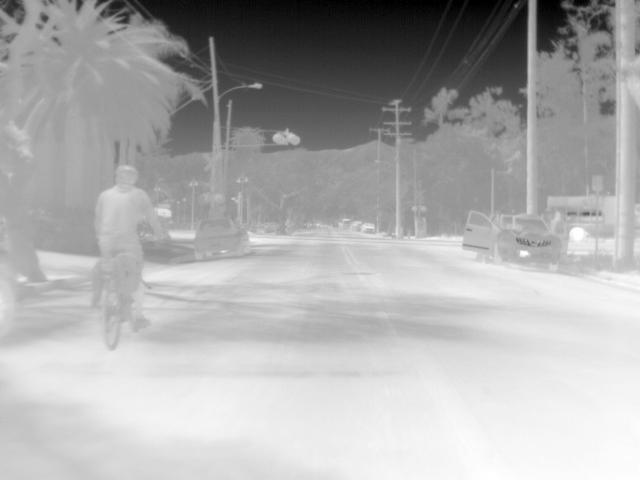car: (462, 208, 563, 271), (193, 216, 253, 260), (362, 222, 379, 234)
person: (98, 165, 162, 334), (549, 208, 568, 240)
